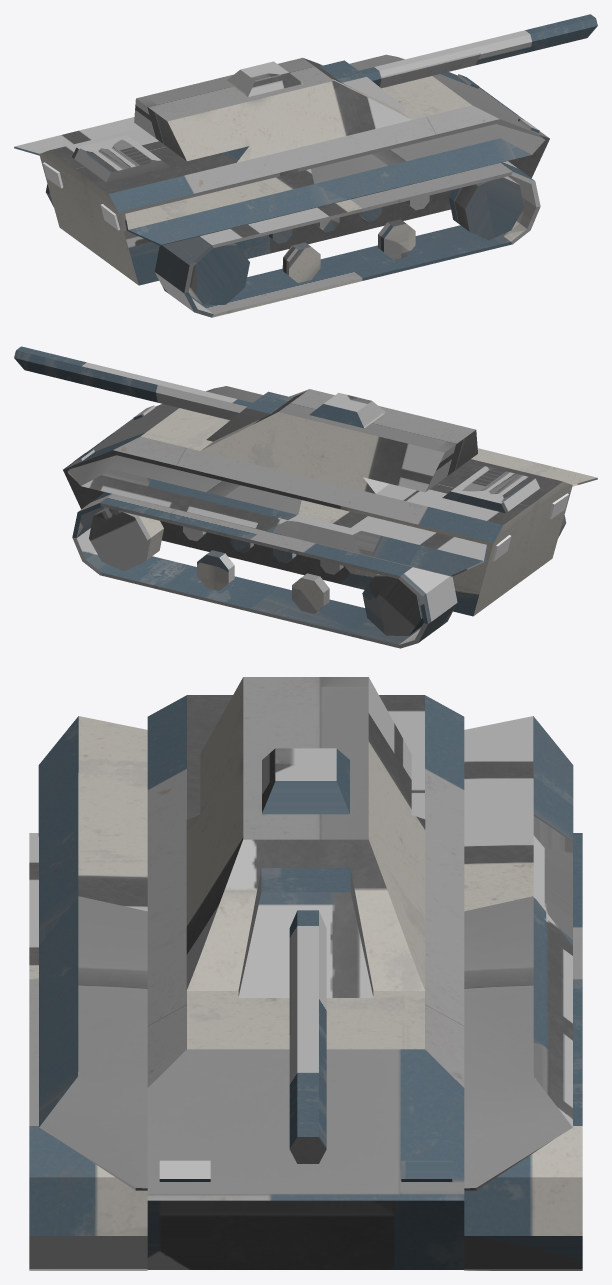
File: EnemyTank_v3.fbx
3 views of the same model, one above another, from view 1: azimuth 30°, elevation 25°; view 2: azimuth 150°, elevation 25°; view 3: azimuth 270°, elevation 25° (orthographic). The views are drawn at different scales.
Visible parts, largest first — view 1: Plane, Plane.002; view 2: Plane, Plane.002; view 3: Plane, Plane.001.
Boxes of the visible parts, x1=… form: Plane: x1=14, y1=14, x2=597, y2=317; Plane.002: x1=43, y1=162, x2=120, y2=230; Plane: x1=14, y1=346, x2=597, y2=648; Plane.002: x1=492, y1=493, x2=568, y2=561; Plane: x1=29, y1=677, x2=582, y2=1270; Plane.001: x1=159, y1=1160, x2=452, y2=1181.
Size of the model in its own units: 179 by 54.28 by 82.01.
